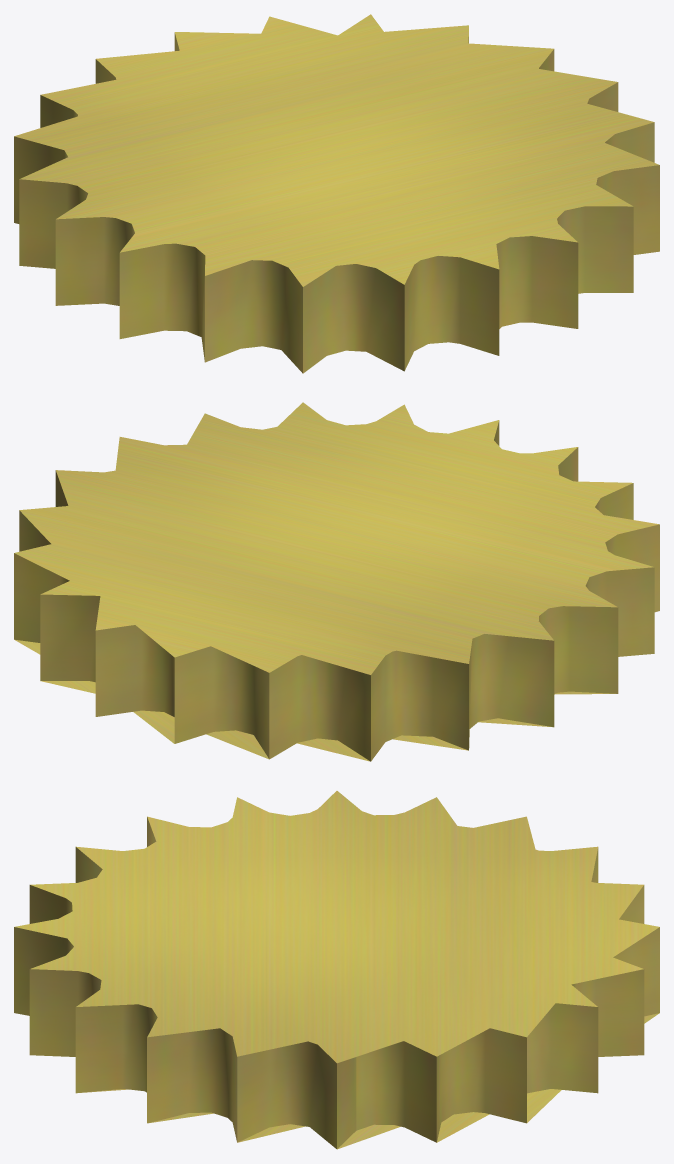
File: SprocketFacet5Sp020.fbx
The picture shows the model from 3 angles, top to bottom: view 1: azimuth 30°, elevation 25°; view 2: azimuth 150°, elevation 25°; view 3: azimuth 270°, elevation 25°; orthographic projection.
Visible parts, largest first — view 1: SprocketFacet5Sp020; view 2: SprocketFacet5Sp020; view 3: SprocketFacet5Sp020.
Boxes of the visible parts, left/top/right/bottom form: SprocketFacet5Sp020: left=14, top=14, right=659, bottom=373; SprocketFacet5Sp020: left=14, top=402, right=659, bottom=761; SprocketFacet5Sp020: left=14, top=791, right=659, bottom=1149.
Size of the model in its own units: 134 by 19.69 by 134.
